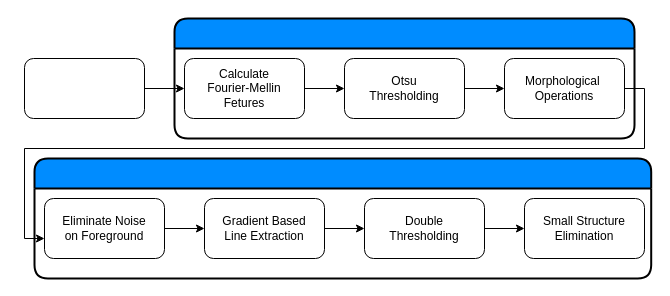
Some shapes in this 670 by 296 pixel diagram are drawn without their labels. The shapes that lost their labels are listed below. From the top down, each one's centre as x and y in pixels, then its label:
point 84,88: Get User Input
point 404,78: Separate Fore- and Background
point 342,218: Enhance Foreground
